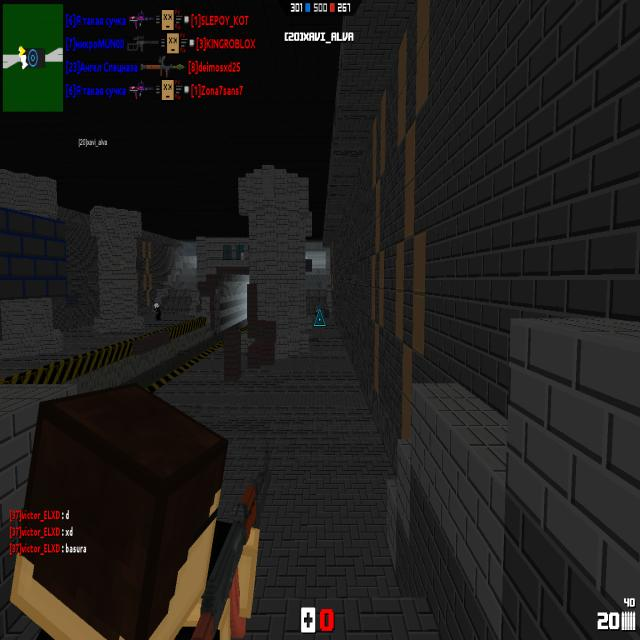enemy: (154, 302, 162, 322), (315, 304, 322, 326), (305, 256, 307, 259)
